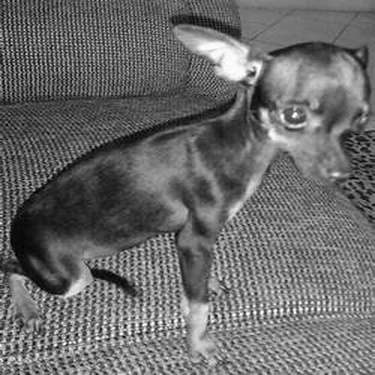dog: (2, 2, 368, 371)
